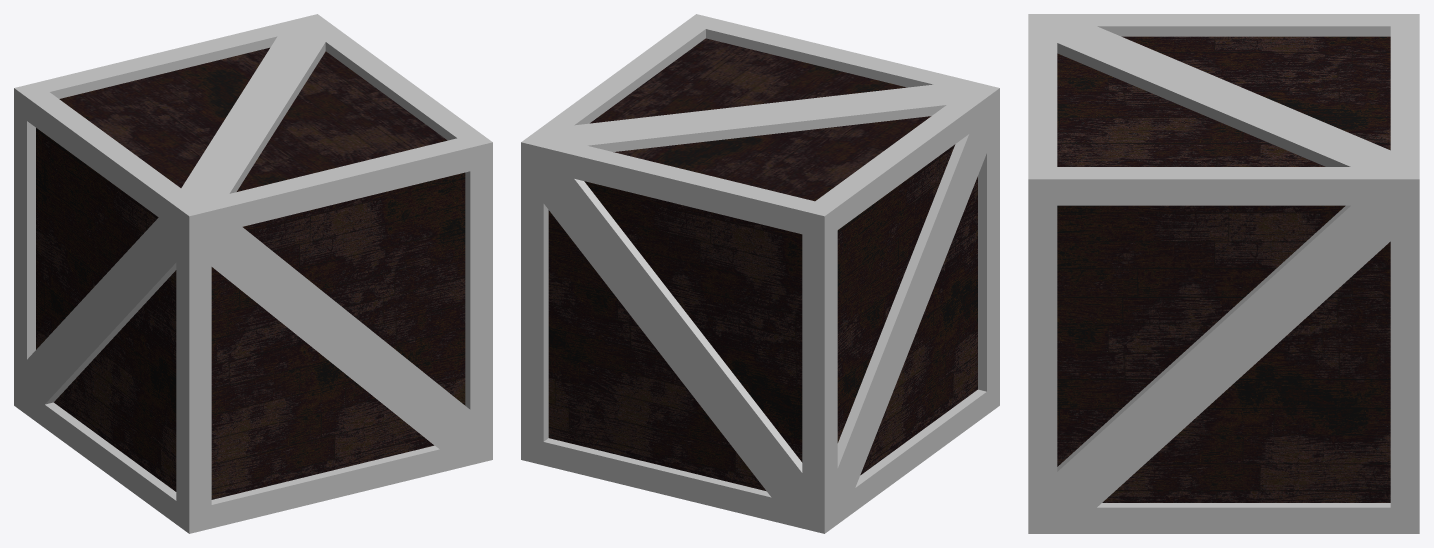
File: buildable_crate.fbx
The picture shows the model from 3 angles, left to right: view 1: azimuth 30°, elevation 25°; view 2: azimuth 150°, elevation 25°; view 3: azimuth 270°, elevation 25°; orthographic projection. The views are drawn at different scales.
Parts seen in each view (by area): view 1: Cube; view 2: Cube; view 3: Cube.
Boxes of the visible parts, x1,y1,x2,y2 form: Cube: [14, 14, 492, 533]; Cube: [521, 14, 999, 533]; Cube: [1028, 14, 1419, 533].
Bounding box in the file's own units: 200 × 200 × 200.
